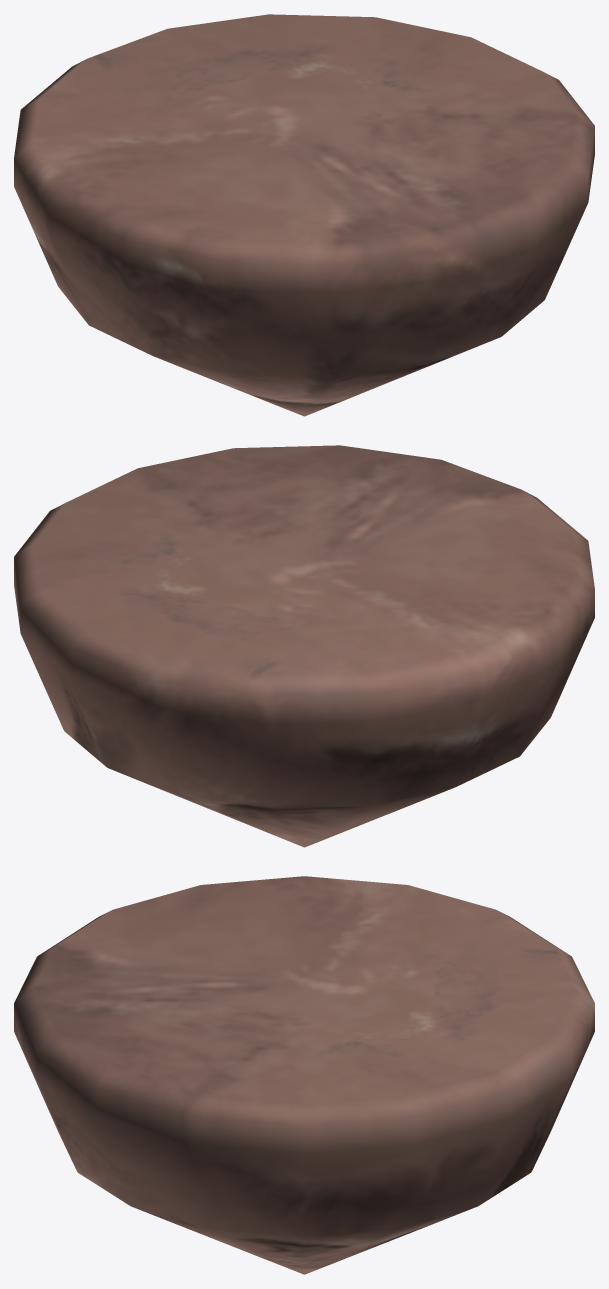
Rendered from platform_ROCK.fbx.
3 renders of one model, top to bottom at view 1: azimuth 30°, elevation 25°; view 2: azimuth 150°, elevation 25°; view 3: azimuth 270°, elevation 25°, orthographic.
Visible parts, largest first — view 1: rockPlatform; view 2: rockPlatform; view 3: rockPlatform.
Part boxes in pixels (<box>): rockPlatform: <box>14,14,594,416</box>; rockPlatform: <box>14,445,594,847</box>; rockPlatform: <box>14,876,594,1274</box>.
Size of the model in its own units: 3.71 by 2 by 3.71.
